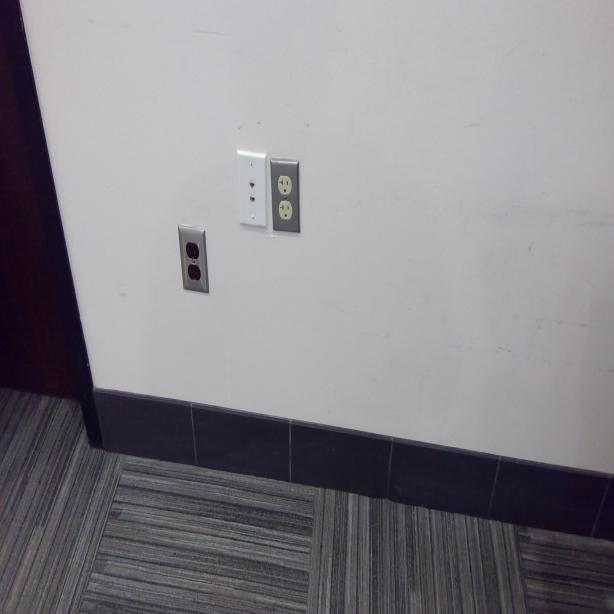typeb: (276, 175, 292, 194), (279, 202, 293, 221), (185, 240, 199, 259), (187, 265, 201, 282)
